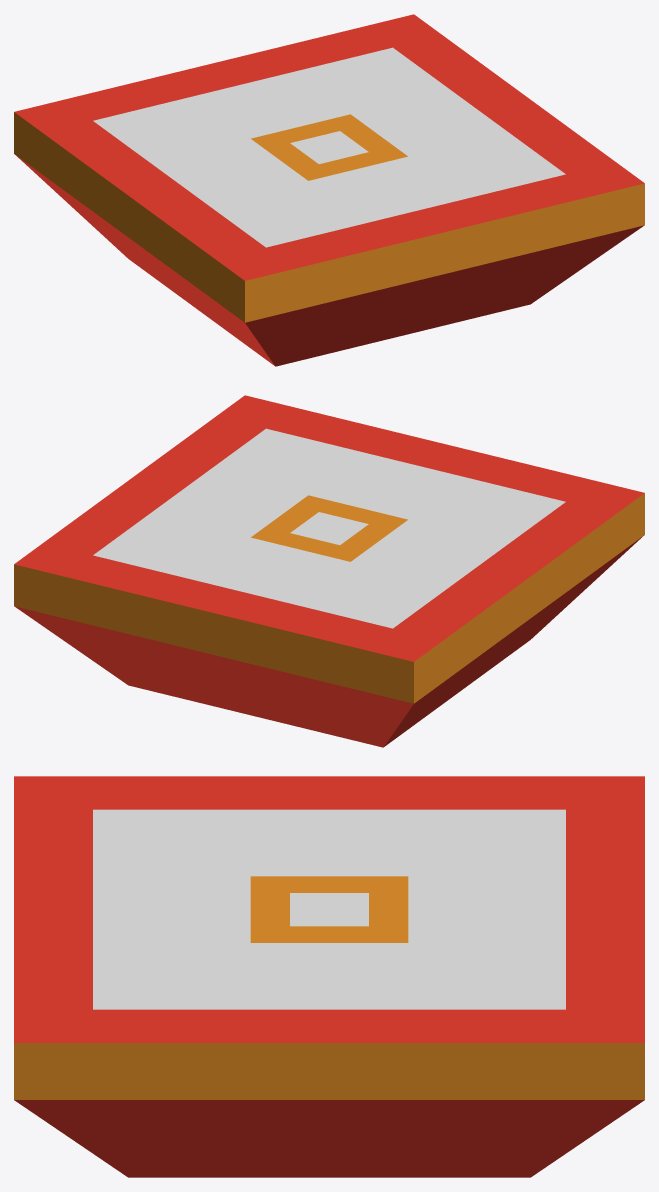
The model's file is map.fbx.
3 views of the same model, one above another, from view 1: azimuth 30°, elevation 25°; view 2: azimuth 150°, elevation 25°; view 3: azimuth 270°, elevation 25° (orthographic). The views are drawn at different scales.
Parts seen in each view (by area): view 1: 큐브; view 2: 큐브; view 3: 큐브.
Boxes of the visible parts, x1,y1,x2,y2 form: 큐브: (14,14,644,366); 큐브: (14,395,644,747); 큐브: (14,776,644,1177).
Bounding box in the file's own units: 1000 × 320 × 1000.
